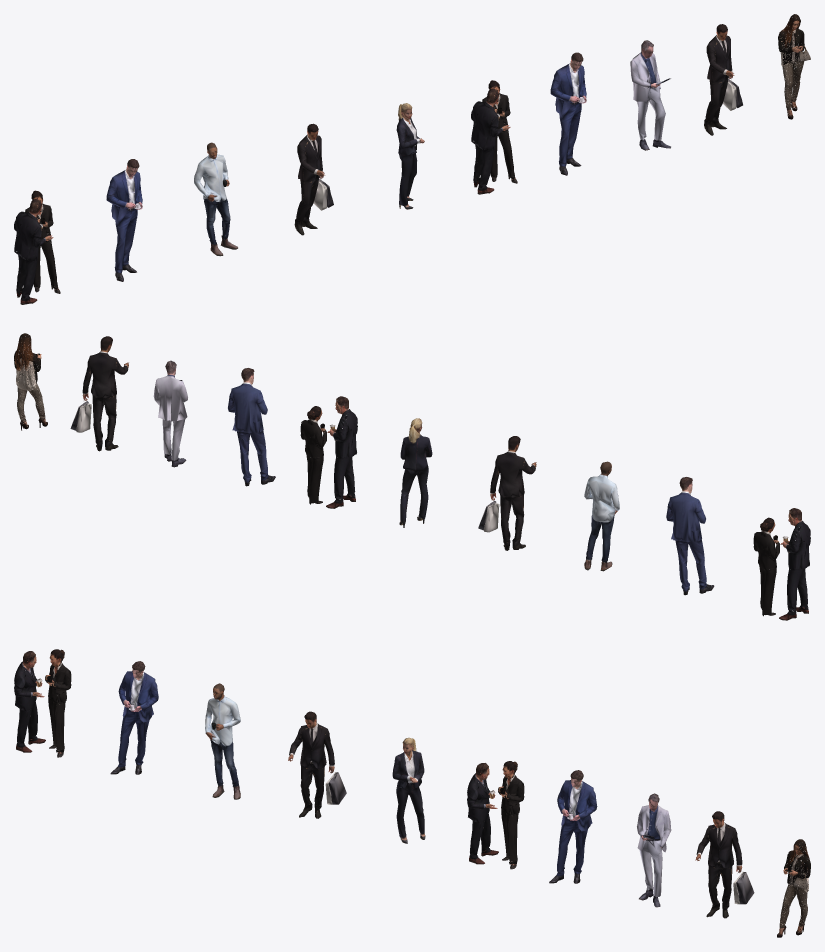
Rendered from people10_lod1.glb.
3 views of the same model, one above another, from view 1: azimuth 30°, elevation 25°; view 2: azimuth 150°, elevation 25°; view 3: azimuth 330°, elevation 25° (orthographic).
Parts seen in each view (by area): view 1: Collection of office workers x 10-002_Collection of office w (×2), Collection of office workers x 10-007_Collection of office w (×2), Collection of office workers x 10-010_Collection of office w (×2), Collection of office workers x 10-008_Collection of office w, Collection of office workers x 10-003_Collection of office w, Collection of office workers x 10-005_Collection of office w, Collection of office workers x 10-004_Collection of office w, Collection of office workers x 10-009_Collection of office w, Collection of office workers x 10-006_Collection of office w, Collection of office workers x 10-001_Collection of office w; view 2: Collection of office workers x 10-002_Collection of office w (×2), Collection of office workers x 10-007_Collection of office w (×2), Collection of office workers x 10-010_Collection of office w (×2), Collection of office workers x 10-009_Collection of office w, Collection of office workers x 10-005_Collection of office w, Collection of office workers x 10-003_Collection of office w, Collection of office workers x 10-008_Collection of office w, Collection of office workers x 10-004_Collection of office w, Collection of office workers x 10-006_Collection of office w, Collection of office workers x 10-001_Collection of office w; view 3: Collection of office workers x 10-002_Collection of office w (×2), Collection of office workers x 10-007_Collection of office w (×2), Collection of office workers x 10-010_Collection of office w (×2), Collection of office workers x 10-009_Collection of office w, Collection of office workers x 10-005_Collection of office w, Collection of office workers x 10-003_Collection of office w, Collection of office workers x 10-008_Collection of office w, Collection of office workers x 10-004_Collection of office w, Collection of office workers x 10-006_Collection of office w, Collection of office workers x 10-001_Collection of office w.
Boxes of the visible parts, x1,y1,x2,y2 form: Collection of office workers x 10-002_Collection of office w (×2): [14, 190, 60, 304]; Collection of office workers x 10-007_Collection of office w (×2): [471, 80, 517, 194]; Collection of office workers x 10-010_Collection of office w (×2): [778, 14, 810, 119]; Collection of office workers x 10-008_Collection of office w: [550, 52, 586, 175]; Collection of office workers x 10-003_Collection of office w: [106, 159, 142, 281]; Collection of office workers x 10-005_Collection of office w: [294, 123, 333, 235]; Collection of office workers x 10-004_Collection of office w: [194, 142, 237, 256]; Collection of office workers x 10-009_Collection of office w: [704, 24, 742, 135]; Collection of office workers x 10-006_Collection of office w: [630, 40, 670, 150]; Collection of office workers x 10-001_Collection of office w: [396, 103, 424, 209]; Collection of office workers x 10-002_Collection of office w (×2): [753, 508, 810, 620]; Collection of office workers x 10-007_Collection of office w (×2): [300, 396, 357, 508]; Collection of office workers x 10-010_Collection of office w (×2): [14, 333, 47, 430]; Collection of office workers x 10-009_Collection of office w: [70, 336, 128, 451]; Collection of office workers x 10-005_Collection of office w: [478, 436, 536, 550]; Collection of office workers x 10-003_Collection of office w: [666, 477, 714, 595]; Collection of office workers x 10-008_Collection of office w: [228, 368, 275, 486]; Collection of office workers x 10-004_Collection of office w: [584, 461, 619, 571]; Collection of office workers x 10-006_Collection of office w: [153, 360, 187, 467]; Collection of office workers x 10-001_Collection of office w: [399, 418, 432, 527]; Collection of office workers x 10-002_Collection of office w (×2): [14, 649, 71, 757]; Collection of office workers x 10-007_Collection of office w (×2): [467, 761, 524, 869]; Collection of office workers x 10-010_Collection of office w (×2): [777, 839, 810, 937]; Collection of office workers x 10-009_Collection of office w: [695, 811, 754, 918]; Collection of office workers x 10-005_Collection of office w: [288, 711, 346, 818]; Collection of office workers x 10-003_Collection of office w: [110, 661, 158, 774]; Collection of office workers x 10-008_Collection of office w: [549, 770, 597, 883]; Collection of office workers x 10-004_Collection of office w: [205, 683, 240, 799]; Collection of office workers x 10-006_Collection of office w: [637, 793, 671, 907]; Collection of office workers x 10-001_Collection of office w: [392, 737, 425, 843].
Size of the model in its own units: 14.34 by 1.95 by 1.04.
12 materials, 10 textured.
